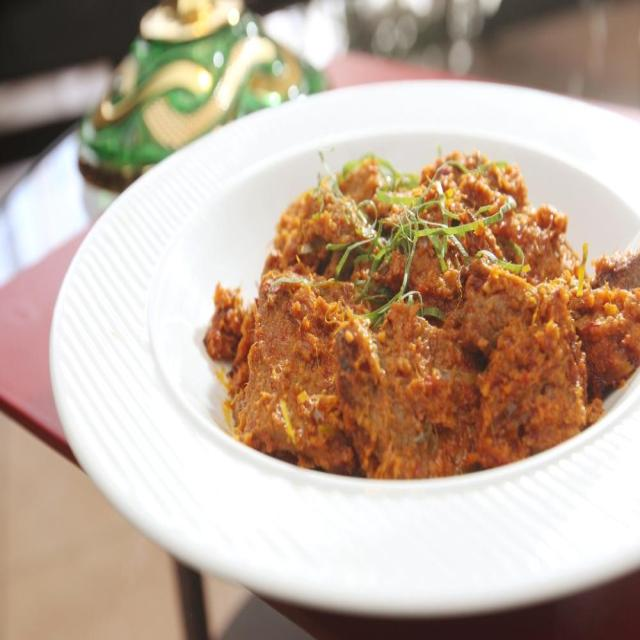Rendang: (185, 133, 640, 501)
